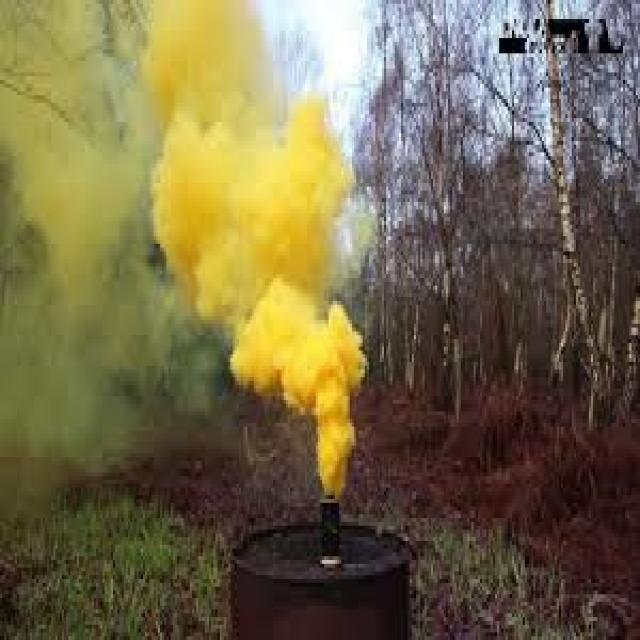Smoke: (0, 0, 371, 503)
